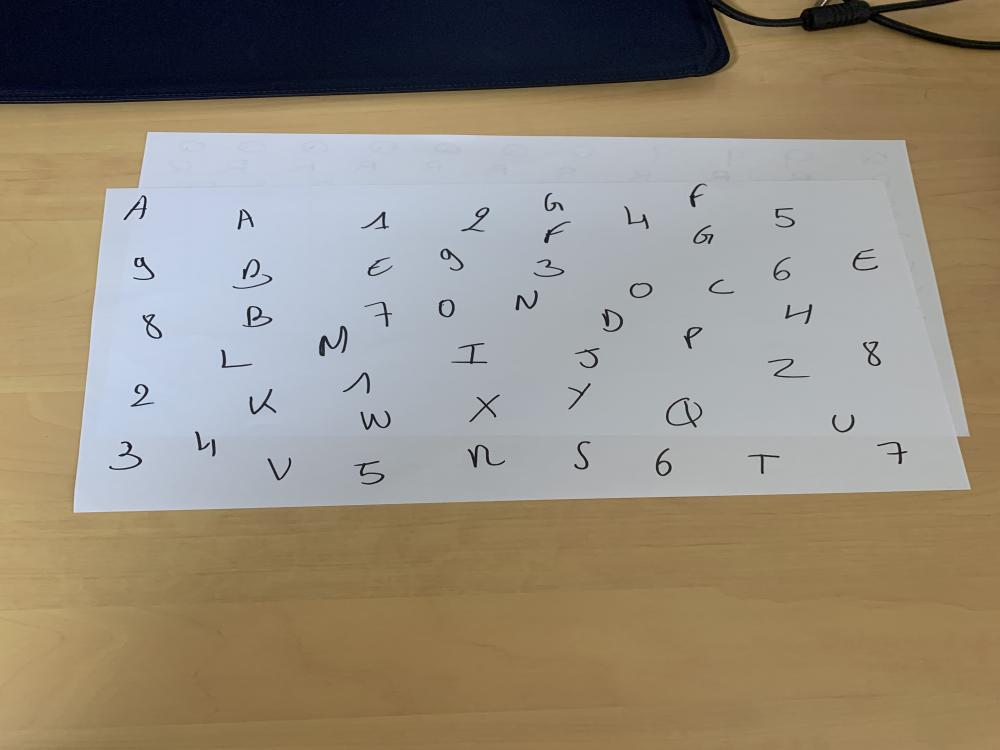0: (622, 276, 664, 304), (432, 298, 460, 320)
1: (352, 205, 406, 234), (333, 368, 379, 400)
2: (452, 204, 503, 237), (124, 380, 163, 408)
3: (104, 438, 153, 476), (526, 258, 568, 282)
4: (616, 204, 662, 233), (188, 424, 221, 460)
5: (350, 455, 396, 490), (761, 204, 805, 229)
6: (646, 446, 692, 480), (766, 255, 796, 284)
7: (352, 298, 403, 334), (874, 437, 910, 470)
8: (132, 309, 176, 346), (817, 410, 866, 438), (856, 336, 892, 370)
9: (125, 252, 165, 288), (432, 244, 468, 273)
A: (114, 191, 156, 222), (228, 206, 266, 234)
B: (228, 254, 281, 292), (240, 301, 284, 335)
C: (705, 272, 742, 298)
D: (592, 306, 630, 336)
E: (359, 254, 401, 280), (846, 246, 883, 274)
F: (680, 178, 716, 210)
G: (538, 219, 582, 245), (532, 190, 571, 215), (685, 220, 722, 246)
H: (777, 300, 824, 332)
I: (449, 340, 496, 372)
J: (572, 343, 613, 375)
K: (242, 387, 284, 418)
L: (211, 346, 259, 372)
M: (314, 323, 359, 360)
N: (498, 288, 557, 316), (459, 440, 513, 470)
P: (669, 320, 710, 356)
Q: (652, 394, 716, 430)
S: (564, 436, 606, 472)
T: (735, 446, 792, 479)
V: (259, 454, 304, 489)
W: (357, 406, 398, 438)
X: (460, 392, 506, 423)
Y: (559, 381, 595, 413)
Z: (760, 354, 824, 387)
